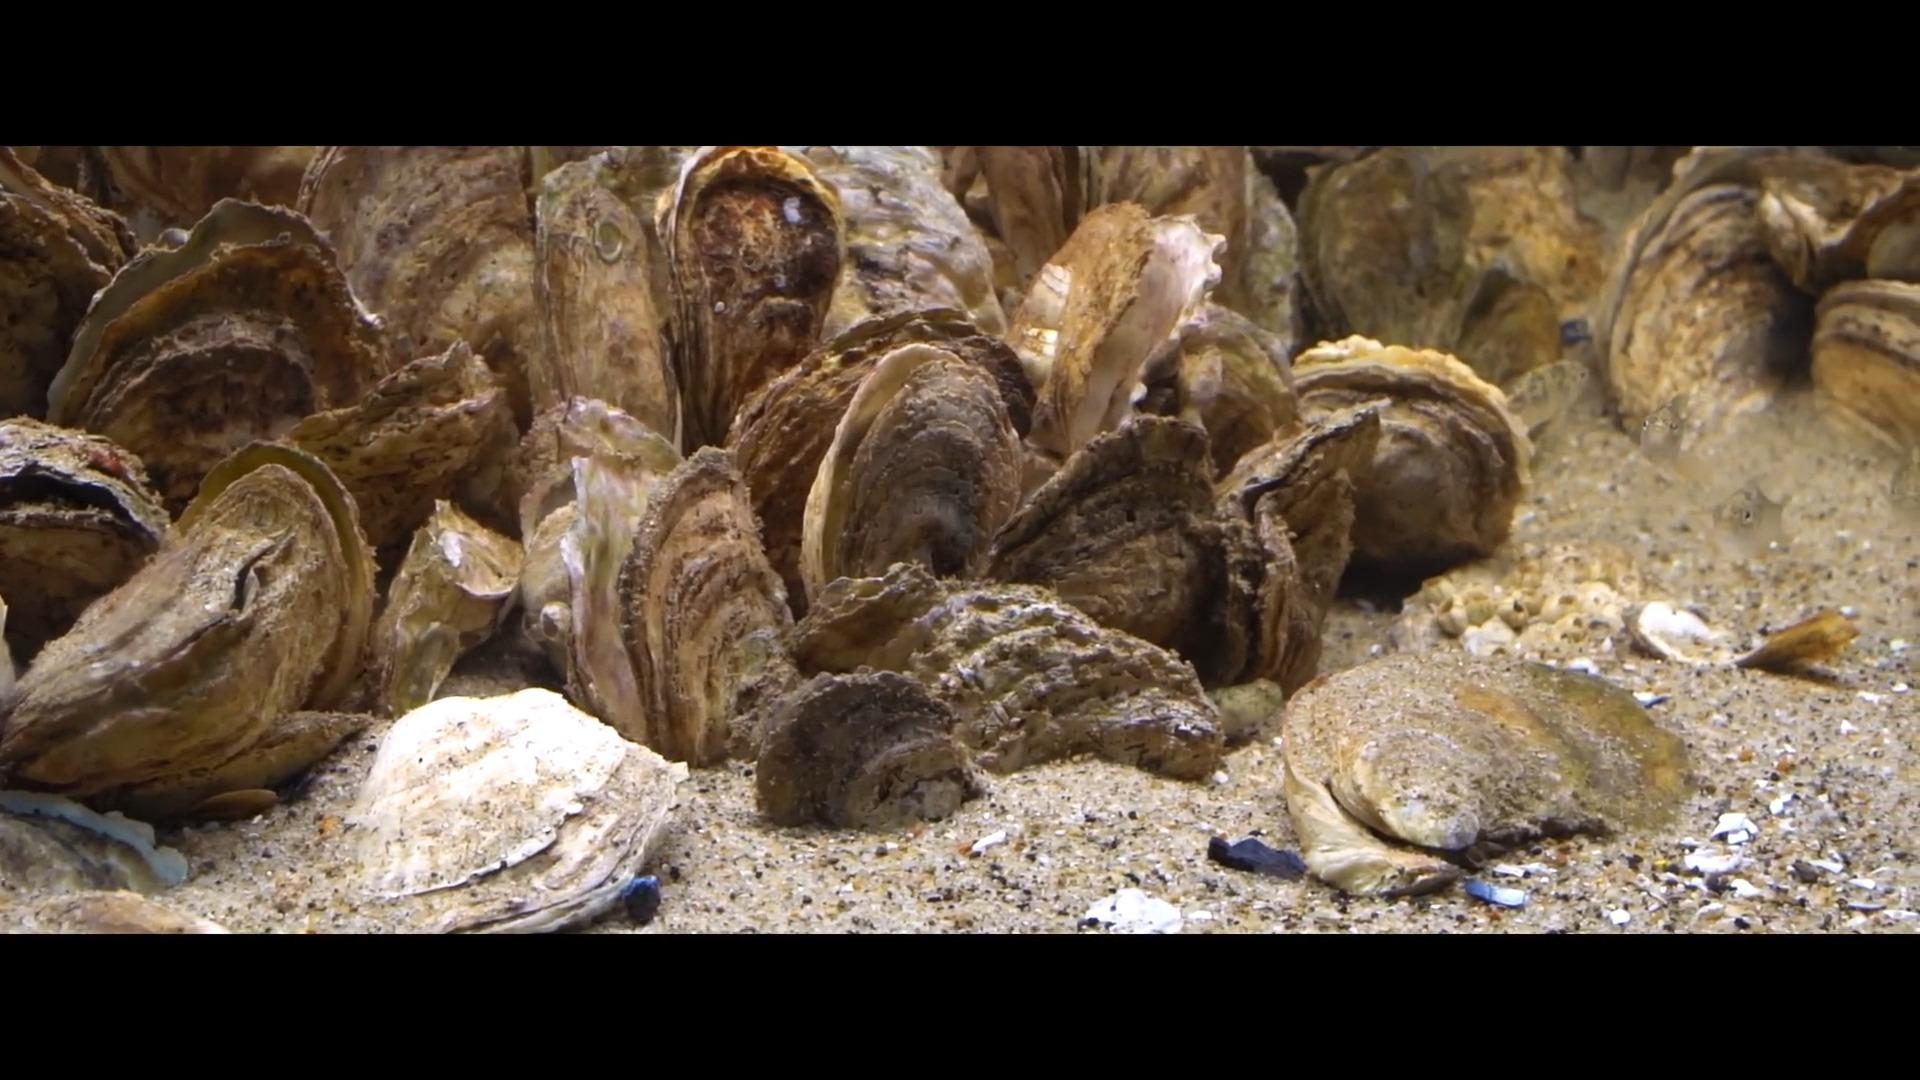Oyster: (0, 440, 375, 818), (773, 563, 1218, 800), (45, 200, 376, 514), (265, 688, 688, 932), (1280, 654, 1693, 895), (977, 405, 1251, 673), (1296, 148, 1605, 378), (297, 144, 553, 421), (595, 440, 795, 769), (1271, 335, 1530, 580), (1590, 169, 1803, 458), (1009, 196, 1229, 465), (659, 144, 843, 452), (265, 335, 516, 558), (802, 345, 1021, 589), (1209, 401, 1371, 698), (537, 146, 690, 455), (1, 419, 171, 658), (746, 667, 973, 835), (0, 160, 133, 429), (368, 496, 525, 720), (506, 389, 679, 568), (1716, 153, 1917, 295), (1145, 303, 1302, 485), (782, 554, 957, 682), (945, 148, 1080, 305), (1809, 278, 1919, 464), (0, 791, 191, 897), (1630, 599, 1733, 665)
